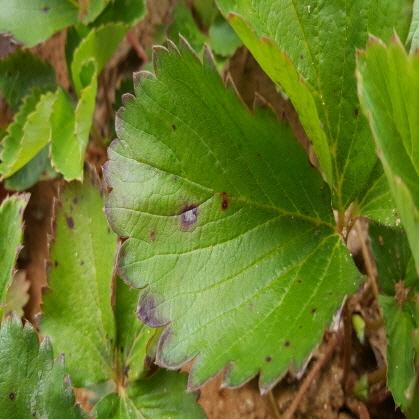Leaf Spot: (101, 32, 368, 396), (213, 0, 415, 212), (32, 159, 122, 387), (0, 307, 93, 418), (110, 273, 167, 385), (0, 0, 80, 48), (0, 190, 32, 310)
